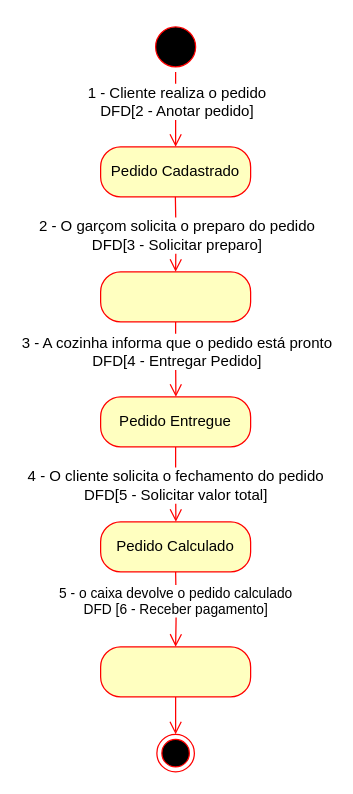
Image size: 353x794. Some labels were removed from this diagram. The shapes that lost their labels are listed below. From the top down, each one's box as (x1, y1, x2, y2) in pixels, then its label:
(99, 271, 251, 322): Pedido Preparado
(99, 646, 251, 697): Pedido Pago
